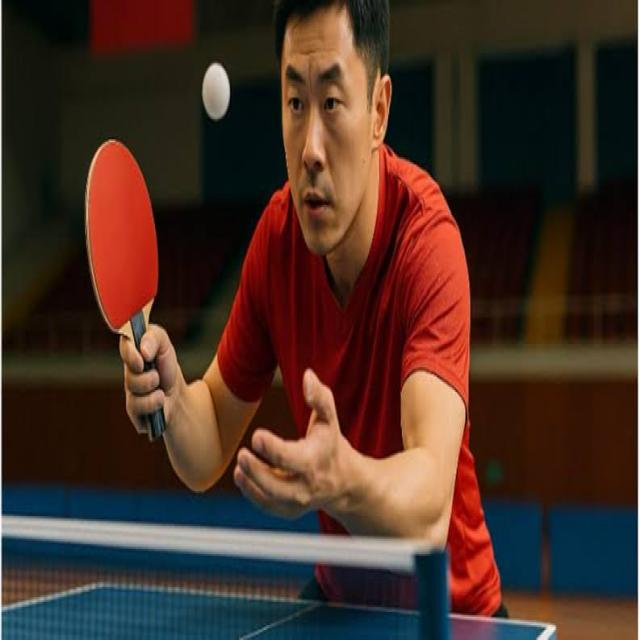TT Net: (1, 510, 454, 637)
TT Racket: (65, 108, 178, 349)
TT Table: (2, 582, 557, 638)
